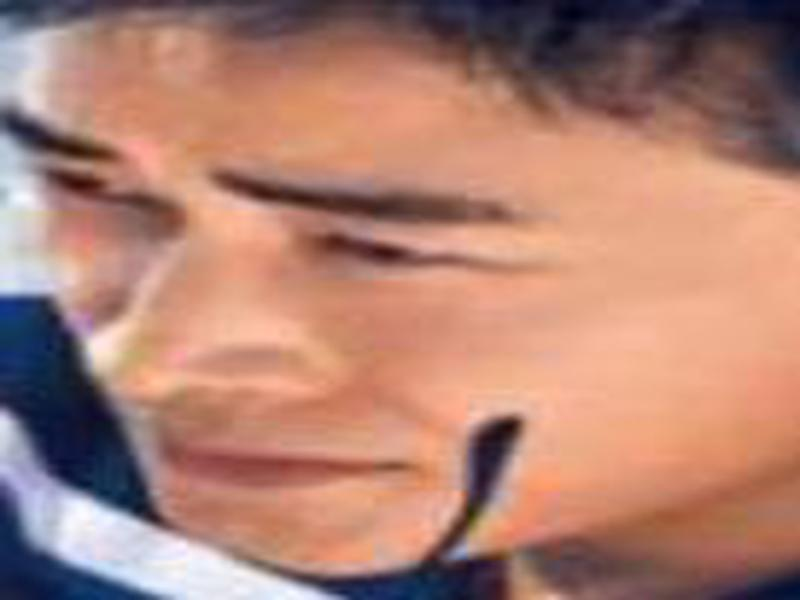without_mask: (19, 31, 800, 580)
